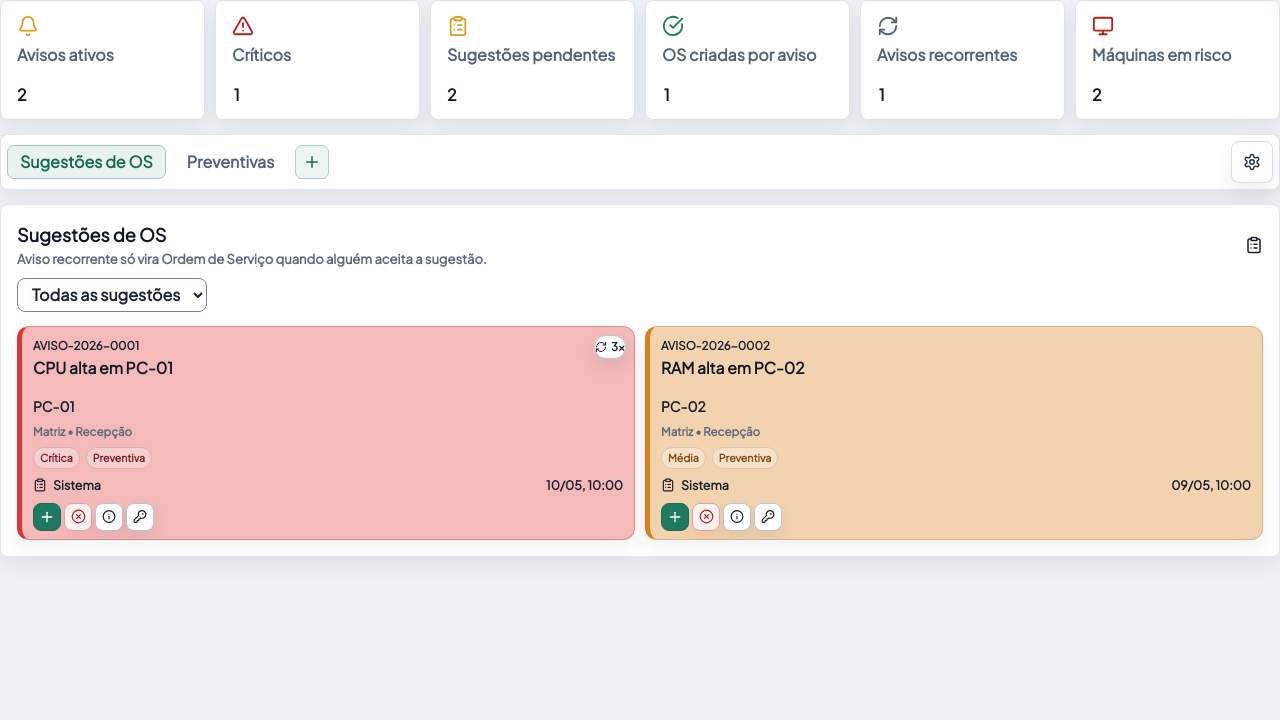
Test: Preventivas - etapa 1 (seleção de máquinas) › usa o histórico de planos para calcular preventivas em dia e vencidas
Click the button "Preventivas": (231, 162) [174, 145, 287, 179]
(page scrolled)
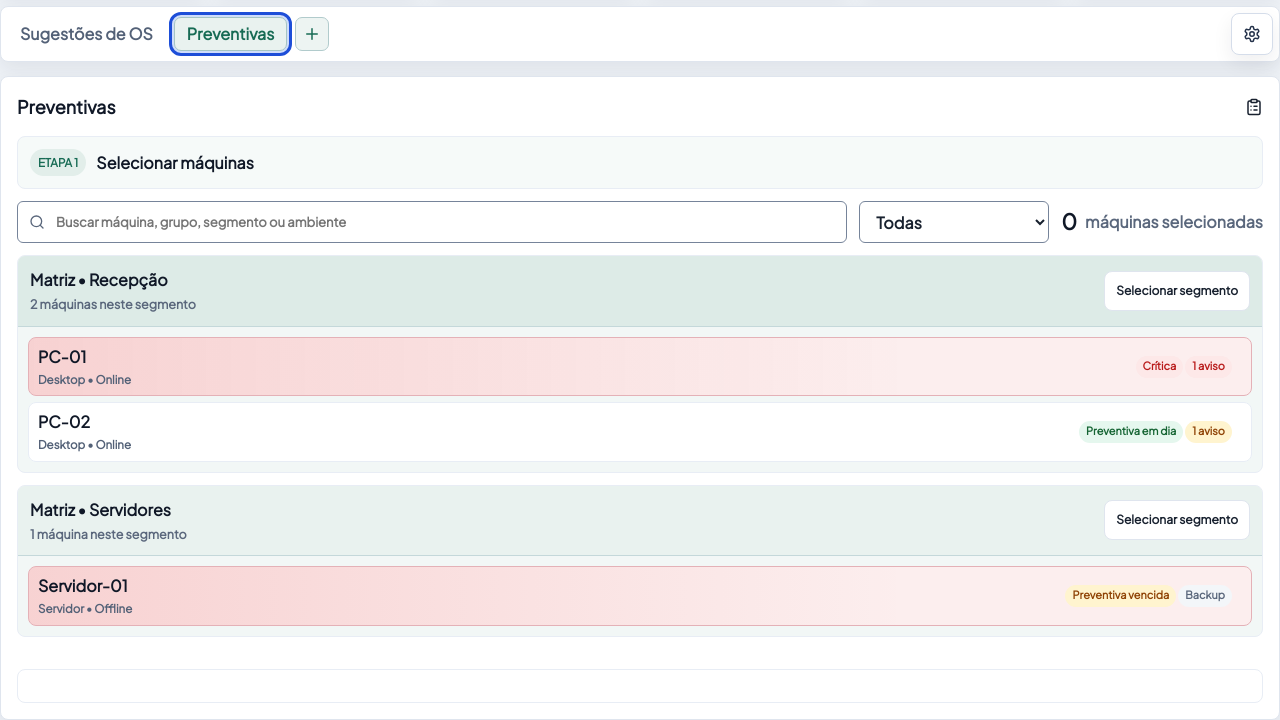
Check: the text "Preventiva em dia" is shown, box [1079, 421, 1183, 443]
Check: the text "Preventiva vencida" is shown, box [1066, 585, 1176, 607]
